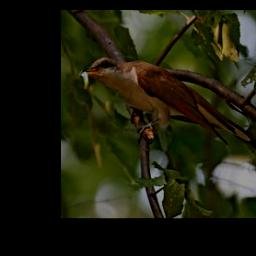Cuckoo: (75, 55, 256, 170)
